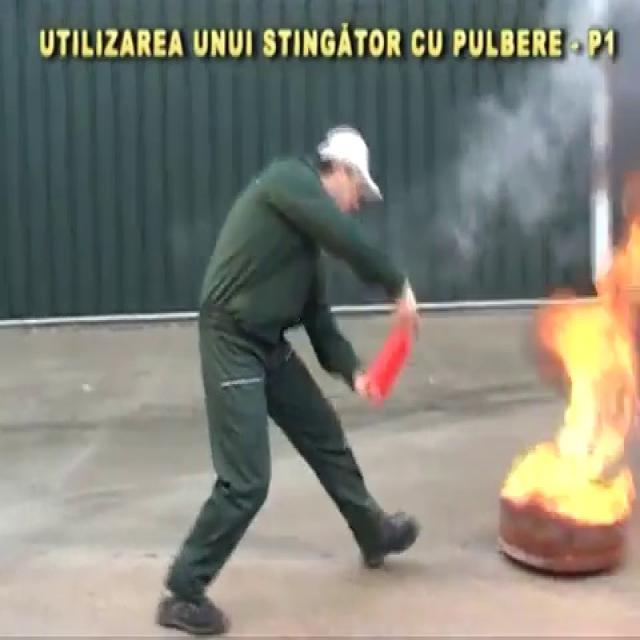Smoke: (458, 47, 640, 237)
